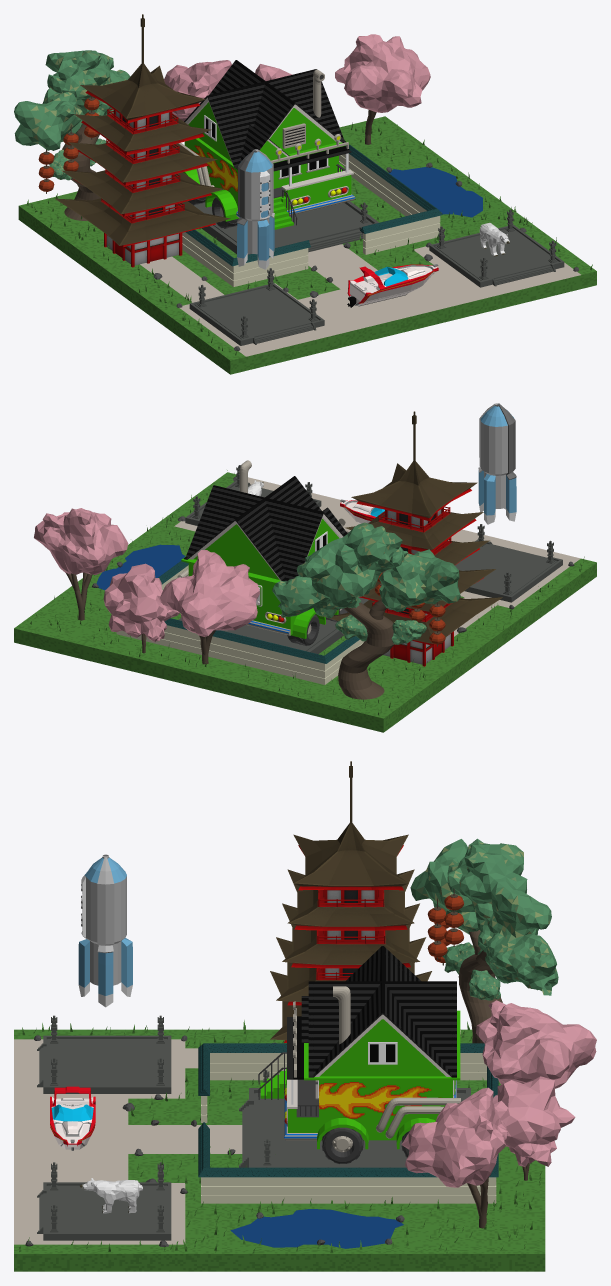
The picture shows the model from 3 angles, top to bottom: view 1: azimuth 30°, elevation 25°; view 2: azimuth 150°, elevation 25°; view 3: azimuth 270°, elevation 25°; orthographic projection. The views are drawn at different scales.
Visible parts, largest first — view 1: Cube.005, Cube.1474, OBJRANDOM_ROCKETSHIP, VEHICLES_BOAT, ANIMAL_OSO_POLAR; view 2: Cube.005, Cube.1474, OBJRANDOM_ROCKETSHIP, VEHICLES_BOAT; view 3: Cube.005, Cube.1474, OBJRANDOM_ROCKETSHIP, VEHICLES_BOAT, ANIMAL_OSO_POLAR.
Part boxes in pixels (bbox=[...]): Cube.005: bbox=[14, 14, 596, 374]; Cube.1474: bbox=[178, 60, 355, 229]; OBJRANDOM_ROCKETSHIP: bbox=[236, 149, 274, 269]; VEHICLES_BOAT: bbox=[347, 264, 438, 307]; ANIMAL_OSO_POLAR: bbox=[479, 222, 509, 256]; Cube.005: bbox=[14, 411, 596, 732]; Cube.1474: bbox=[177, 460, 349, 645]; OBJRANDOM_ROCKETSHIP: bbox=[478, 403, 516, 524]; VEHICLES_BOAT: bbox=[340, 499, 384, 523]; Cube.005: bbox=[14, 761, 596, 1271]; Cube.1474: bbox=[258, 946, 460, 1163]; OBJRANDOM_ROCKETSHIP: bbox=[78, 854, 132, 1007]; VEHICLES_BOAT: bbox=[50, 1086, 95, 1150]; ANIMAL_OSO_POLAR: bbox=[80, 1178, 142, 1213].
Size of the model in its own units: 4528 by 2693 by 4389.
Materials: 41 (6 with a texture image).
